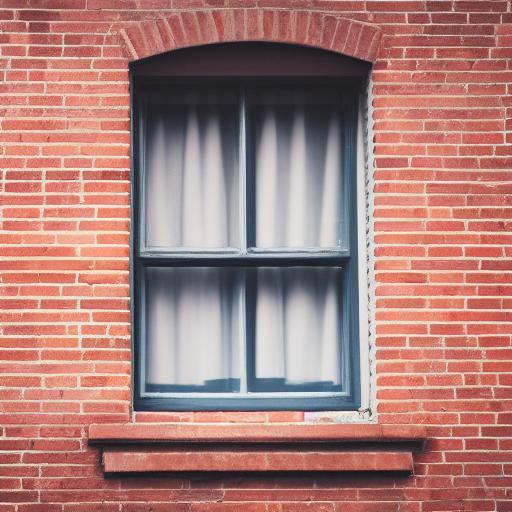Window: (90, 11, 429, 481)
